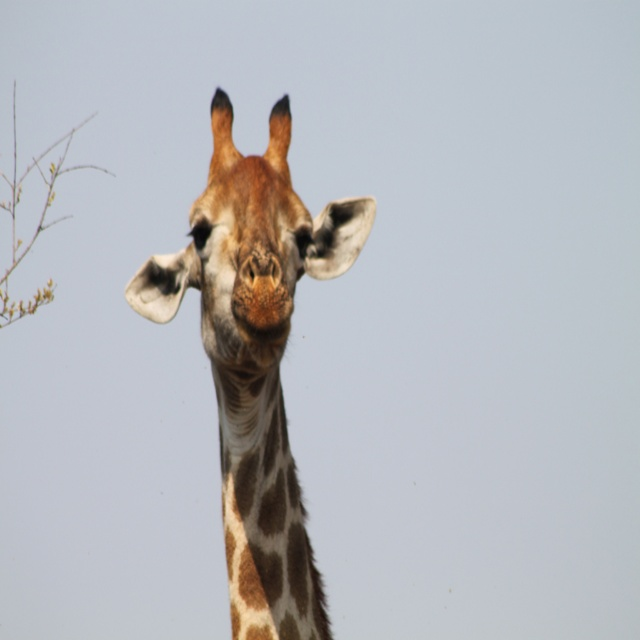Giraffe: (123, 79, 376, 639)
